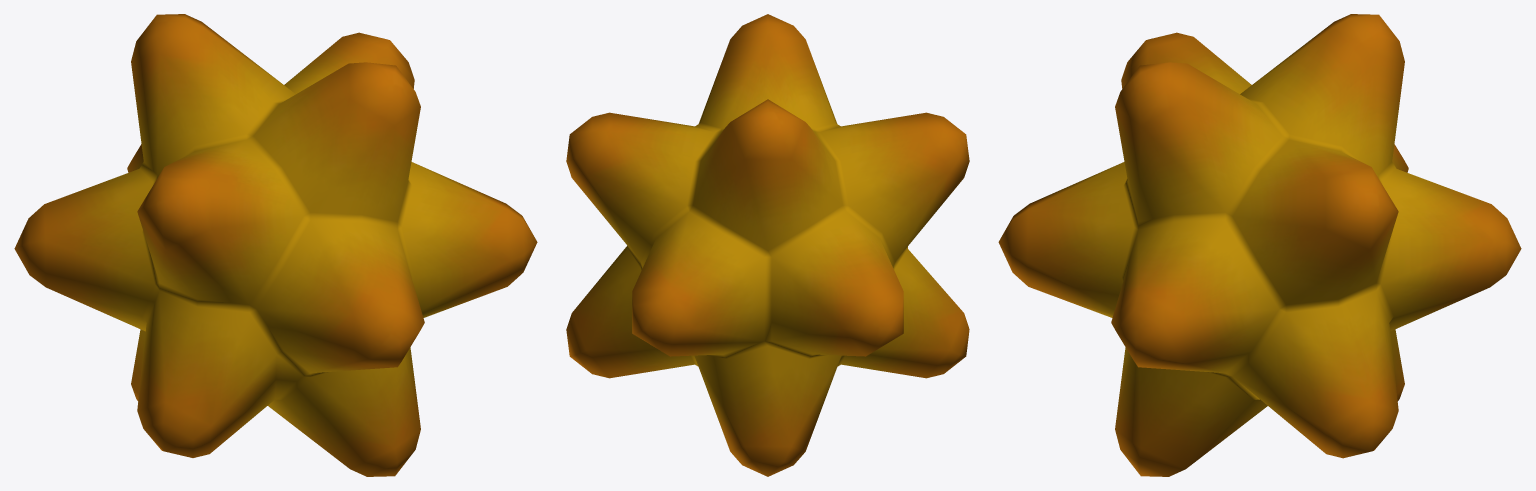
The model's file is star-fragment.glb.
The picture shows the model from 3 angles, left to right: view 1: azimuth 30°, elevation 25°; view 2: azimuth 150°, elevation 25°; view 3: azimuth 270°, elevation 25°; orthographic projection. The views are drawn at different scales.
Bounding box in the file's own units: 3.1 × 3.05 × 3.52.
1 material, 1 textured.
